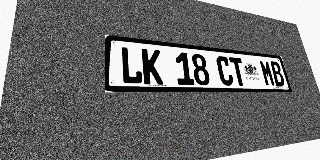1: (174, 52, 195, 85)
8: (191, 53, 211, 85)
B: (269, 61, 286, 86)
C: (215, 56, 234, 86)
K: (141, 48, 163, 85)
L: (120, 46, 143, 84)
M: (259, 60, 276, 86)
T: (229, 57, 247, 86)
